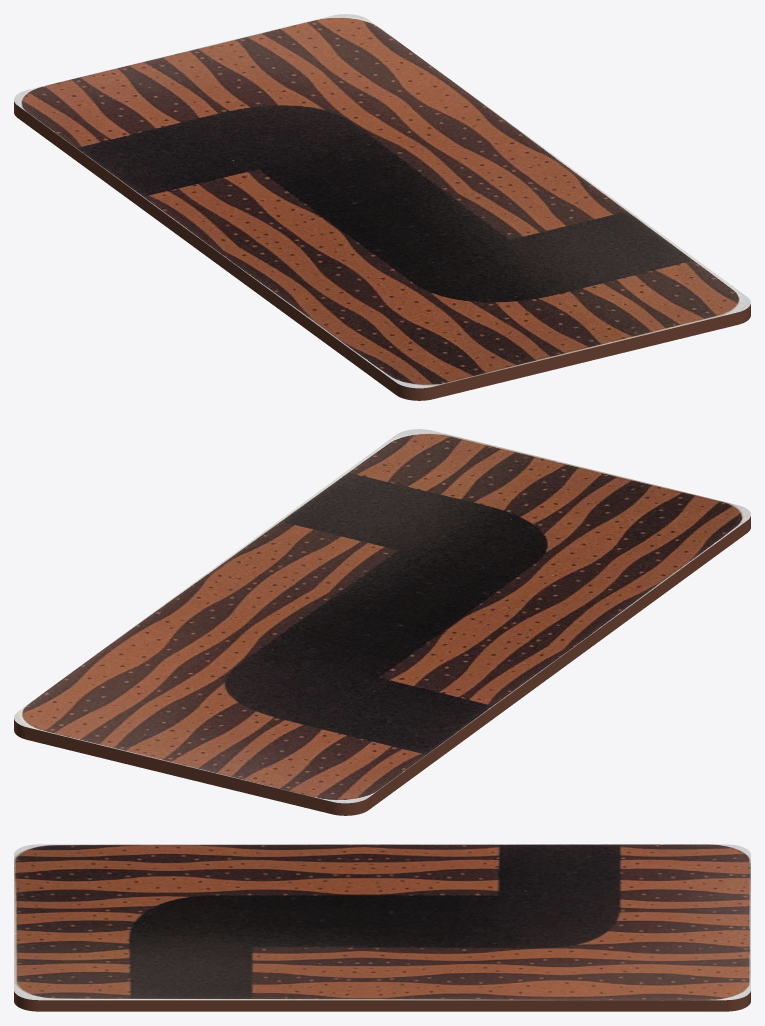
3 views of the same model, one above another, from view 1: azimuth 30°, elevation 25°; view 2: azimuth 150°, elevation 25°; view 3: azimuth 270°, elevation 25° (orthographic). The views are drawn at different scales.
Parts seen in each view (by area): view 1: g22; view 2: g22; view 3: g22.
Boxes of the visible parts, x1,y1,x2,y2 form: g22: (14, 14, 750, 400); g22: (14, 429, 750, 815); g22: (14, 844, 750, 1011).
Size of the model in its own units: 0.044 by 0.0015 by 0.088.
Materials: 3 (2 with a texture image).
